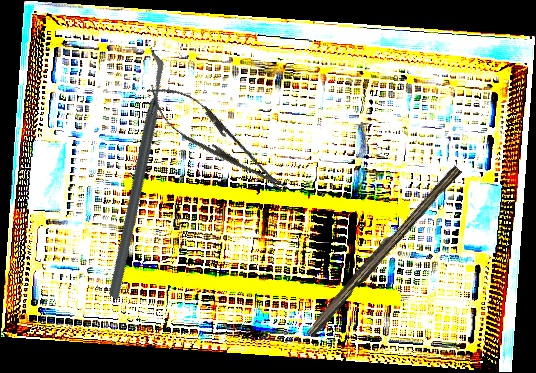Chopper: (20, 46, 249, 302)
Needle Holder: (136, 71, 298, 208)
Scalpel Handle: (302, 160, 463, 341)
